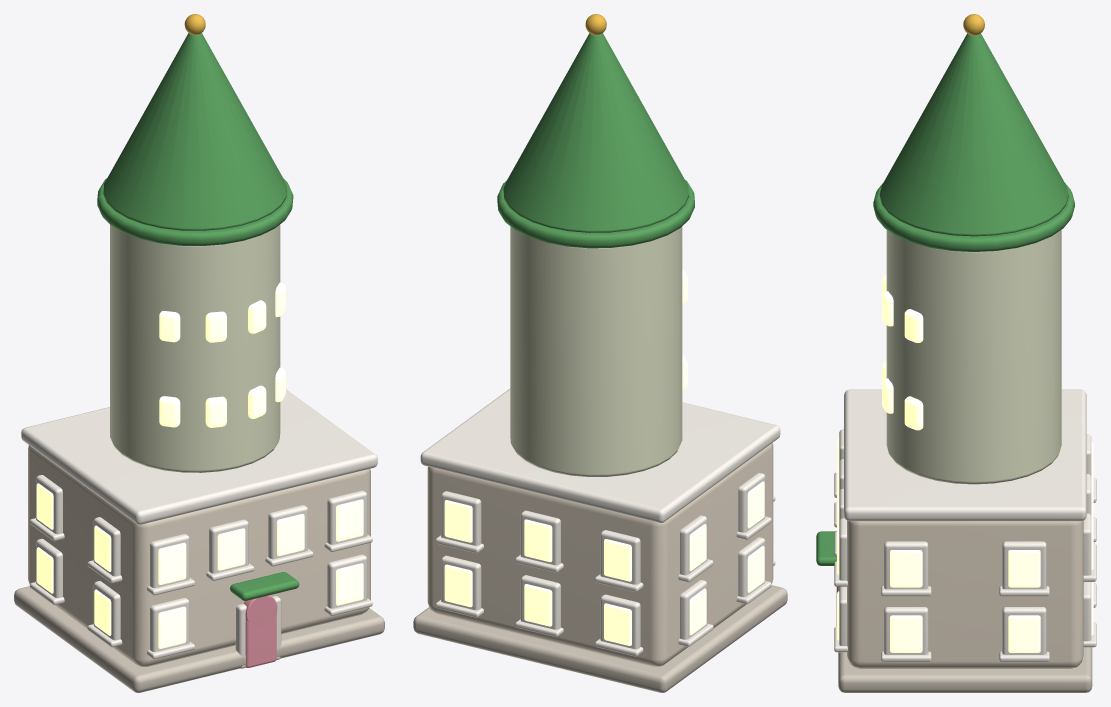
3 renders of one model, left to right at view 1: azimuth 30°, elevation 25°; view 2: azimuth 150°, elevation 25°; view 3: azimuth 270°, elevation 25°, orthographic. The views are drawn at different scales.
Parts seen in each view (by area): view 1: Cube; view 2: Cube; view 3: Cube.
Boxes of the visible parts, box(x1,y1,x2,y2) form: Cube: box(14, 14, 384, 692); Cube: box(413, 14, 787, 692); Cube: box(816, 14, 1096, 692).
Bounding box in the file's own units: 0.699 × 1.56 × 0.6395.
